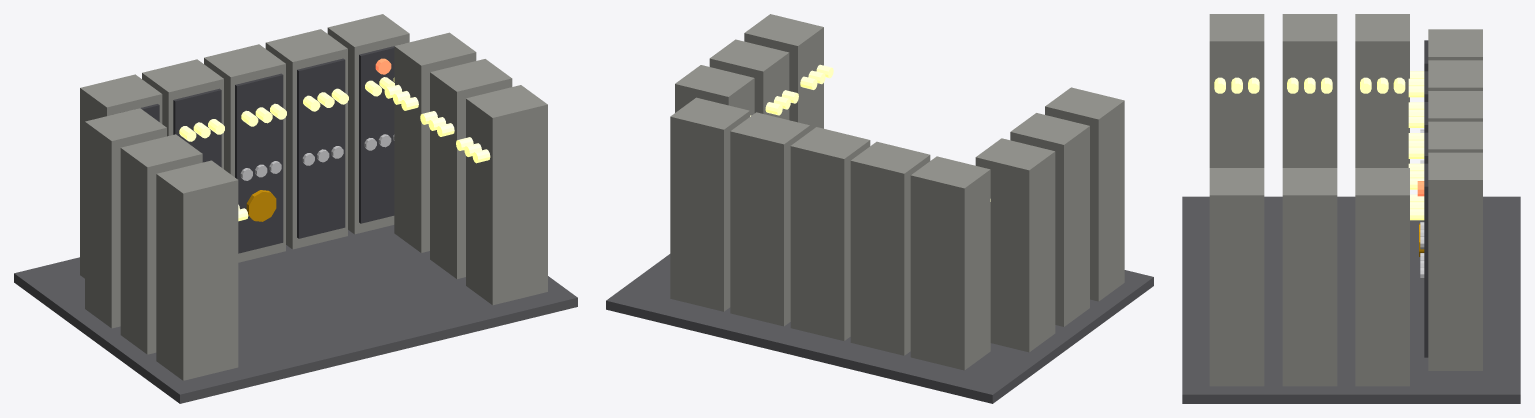
Rendered from eniac.glb.
The picture shows the model from 3 angles, left to right: view 1: azimuth 30°, elevation 25°; view 2: azimuth 150°, elevation 25°; view 3: azimuth 270°, elevation 25°; orthographic projection. The views are drawn at different scales.
Visible parts, largest first — view 1: base, cab_7, cab_10, cab_6, cab_5, cab_9, cab_8, sub_3, sub_2, sub_4, cab_3, cab_4 (+5 smaller); view 2: base, cab_0, cab_5, cab_1, cab_2, cab_3, cab_4, cab_6, cab_7, cab_10, cab_9, cab_8; view 3: base, cab_9, cab_10, cab_4, cab_8, cab_7, cab_6, cab_5, cab_0, cab_3, cab_1, cab_2 (+1 smaller).
Part boxes in pixels (box(x1,y1,x2,y2)): base: box(14, 225, 577, 403); cab_7: box(156, 160, 238, 380); cab_10: box(466, 85, 547, 305); cab_6: box(120, 134, 202, 354); cab_5: box(85, 108, 166, 328); cab_9: box(430, 59, 512, 278); cab_8: box(394, 32, 476, 252); sub_3: box(297, 58, 345, 238); sub_2: box(235, 73, 283, 253); sub_4: box(359, 46, 394, 223); cab_3: box(265, 29, 347, 249); cab_4: box(327, 14, 409, 234); base: box(606, 254, 1153, 403); cab_0: box(910, 156, 990, 370); cab_5: box(975, 138, 1055, 352); cab_1: box(850, 141, 930, 355); cab_2: box(790, 127, 870, 340); cab_3: box(730, 112, 809, 326); cab_4: box(670, 97, 749, 311); cab_6: box(1010, 113, 1089, 326); cab_7: box(1045, 87, 1124, 301); cab_10: box(744, 14, 823, 131); cab_9: box(709, 39, 789, 119); cab_8: box(675, 65, 754, 115); base: box(1182, 196, 1520, 403); cab_9: box(1282, 168, 1337, 386); cab_10: box(1209, 168, 1264, 386); cab_4: box(1428, 152, 1482, 370); cab_8: box(1355, 168, 1409, 386); cab_7: box(1209, 14, 1264, 167); cab_6: box(1282, 14, 1337, 167); cab_5: box(1355, 14, 1409, 167); cab_0: box(1428, 29, 1482, 60); cab_3: box(1428, 121, 1482, 152); cab_1: box(1428, 60, 1482, 90); cab_2: box(1428, 91, 1482, 121).
Bounding box in the file's own units: 3.6 × 1.7 × 2.6.
